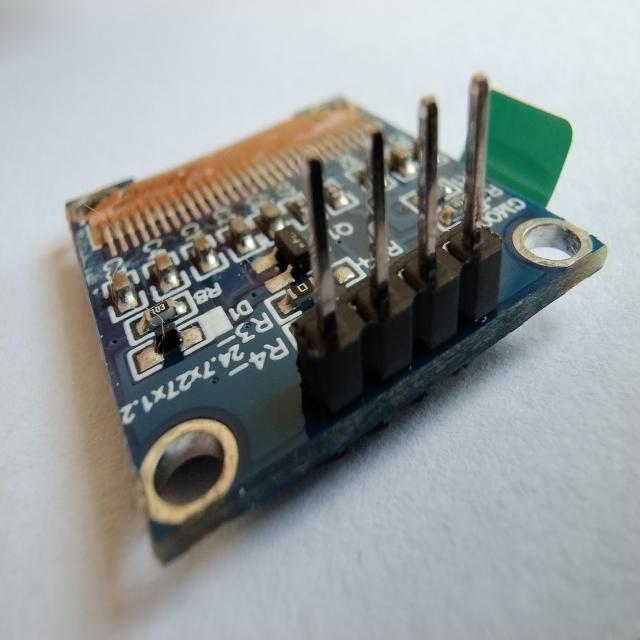oled: (40, 56, 627, 563)
